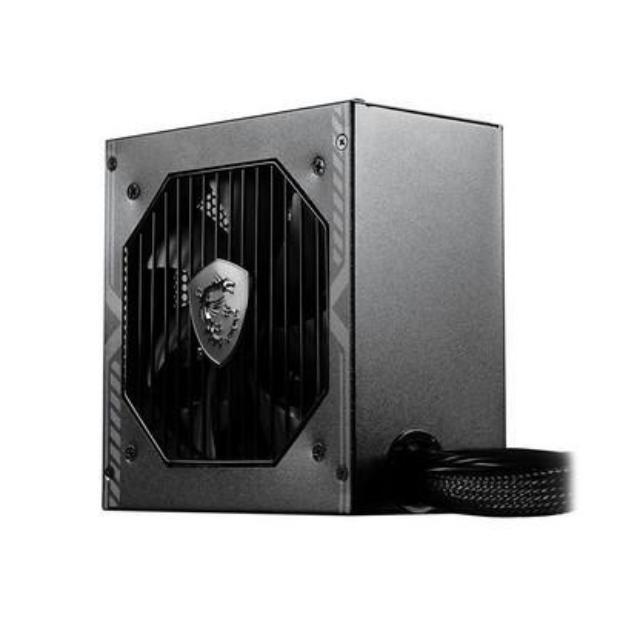PSU: (82, 87, 512, 538)
